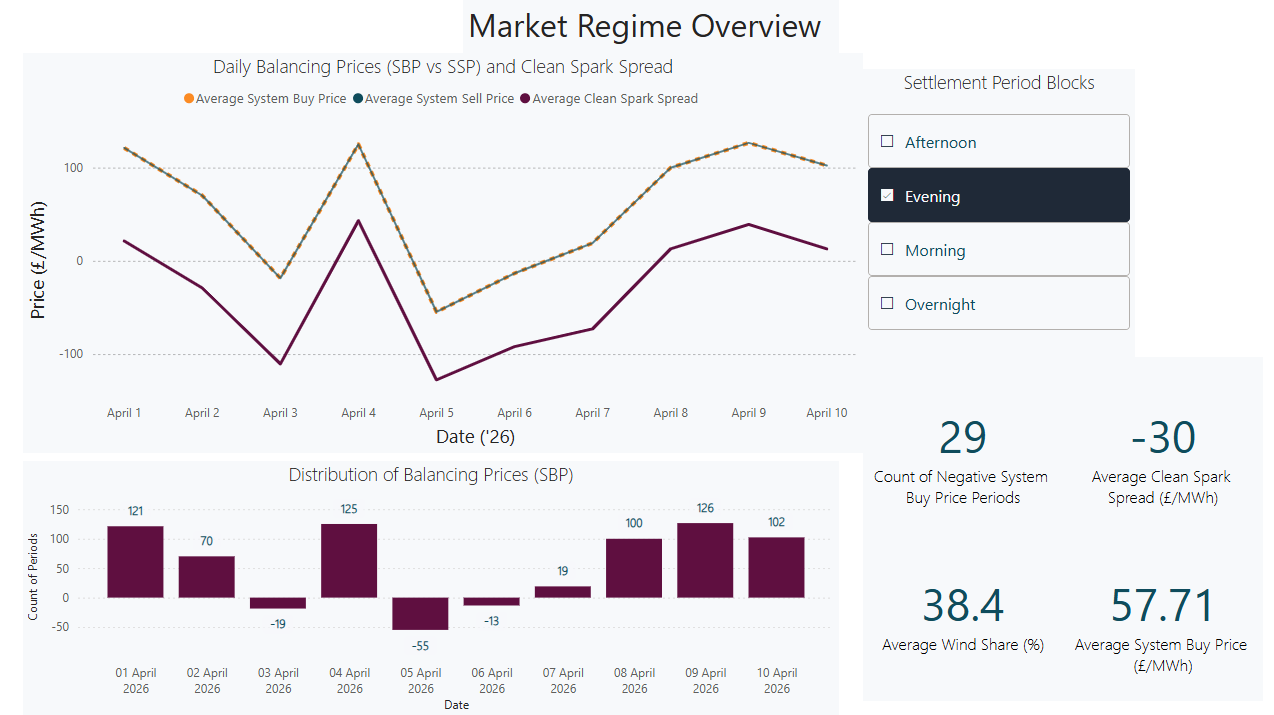

This screenshot's page, from the dashboard's own definition file:
{"tool":"powerbi","page":{"name":"Market Regime Overview","canvas":[1280,720],"ordinal":0},"visuals":[{"type":"card","fields":{"Values":["fact_power_market.Avg SBP"]},"box":[1064,528,200,176],"z":0,"group":"g1"},{"type":"card","fields":{"Values":["fact_power_market.Avg Clean Spark Spread"]},"box":[1064,360,200,176],"z":1000,"group":"g1"},{"type":"lineStackedColumnComboChart","title":"Distribution of Balancing Prices (SBP)","fields":{"Category":["fact_power_market.date"],"Y":["fact_power_market.Avg SBP"]},"box":[24,464,816,256],"z":1000},{"type":"advancedSlicerVisual","title":"Settlement Period Blocks","fields":{"Values":["fact_power_market.SP_HourBlock"]},"box":[864,72,272,288],"z":2000},{"type":"card","fields":{"Values":["fact_power_market.Avg Wind %"]},"box":[864,528,200,176],"z":2000,"group":"g1"},{"type":"textbox","box":[464,0,376,56],"z":3000},{"type":"card","fields":{"Values":["fact_power_market.Negative SBP Periods"]},"box":[864,360,200,176],"z":3000,"group":"g1"},{"type":"group","id":"g1","title":"Group 1","box":[864,360,400,344],"z":4000},{"type":"lineChart","title":"Daily Balancing Prices (SBP vs SSP) and Clean Spark Spread","fields":{"Category":["fact_power_market.date.Variation.Date Hierarchy.Month","fact_power_market.date.Variation.Date Hierarchy.Day","fact_power_market.settlement_period"],"Y":["fact_power_market.Avg SBP","fact_power_market.Avg SSP","fact_power_market.Avg Clean Spark Spread"]},"box":[24,56,840,400],"z":4001}]}

Visuals, with their boxes in screenshot pixels (x1, y1, x2, y2), scaled from the page's 1280x720 canvas onto the 1274x715 screenshot:
card - fact_power_market.Avg SBP: 1059 524 1258 699
card - fact_power_market.Avg Clean Spark Spread: 1059 358 1258 532
"Distribution of Balancing Prices (SBP)" lineStackedColumnComboChart: 24 461 836 714
"Settlement Period Blocks" advancedSlicerVisual: 860 72 1131 358
card - fact_power_market.Avg Wind %: 860 524 1059 699
textbox: 462 0 836 56
card - fact_power_market.Negative SBP Periods: 860 358 1059 532
"Group 1" group: 860 358 1258 699
"Daily Balancing Prices (SBP vs SSP) and Clean Spark Spread" lineChart: 24 56 860 453
